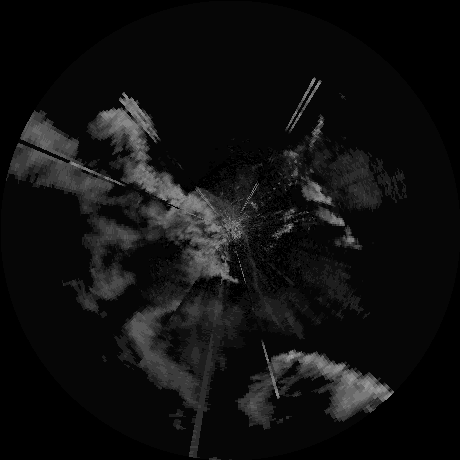frontgust: (243, 240, 264, 293)
